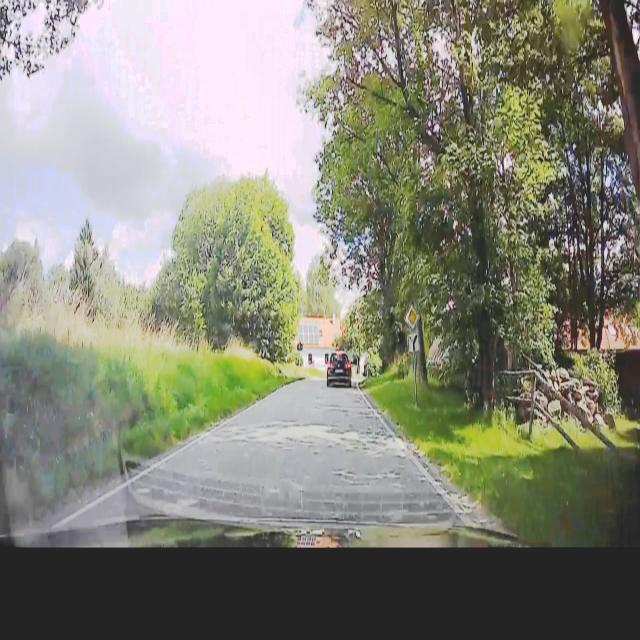Priority road: (402, 300, 420, 333)
